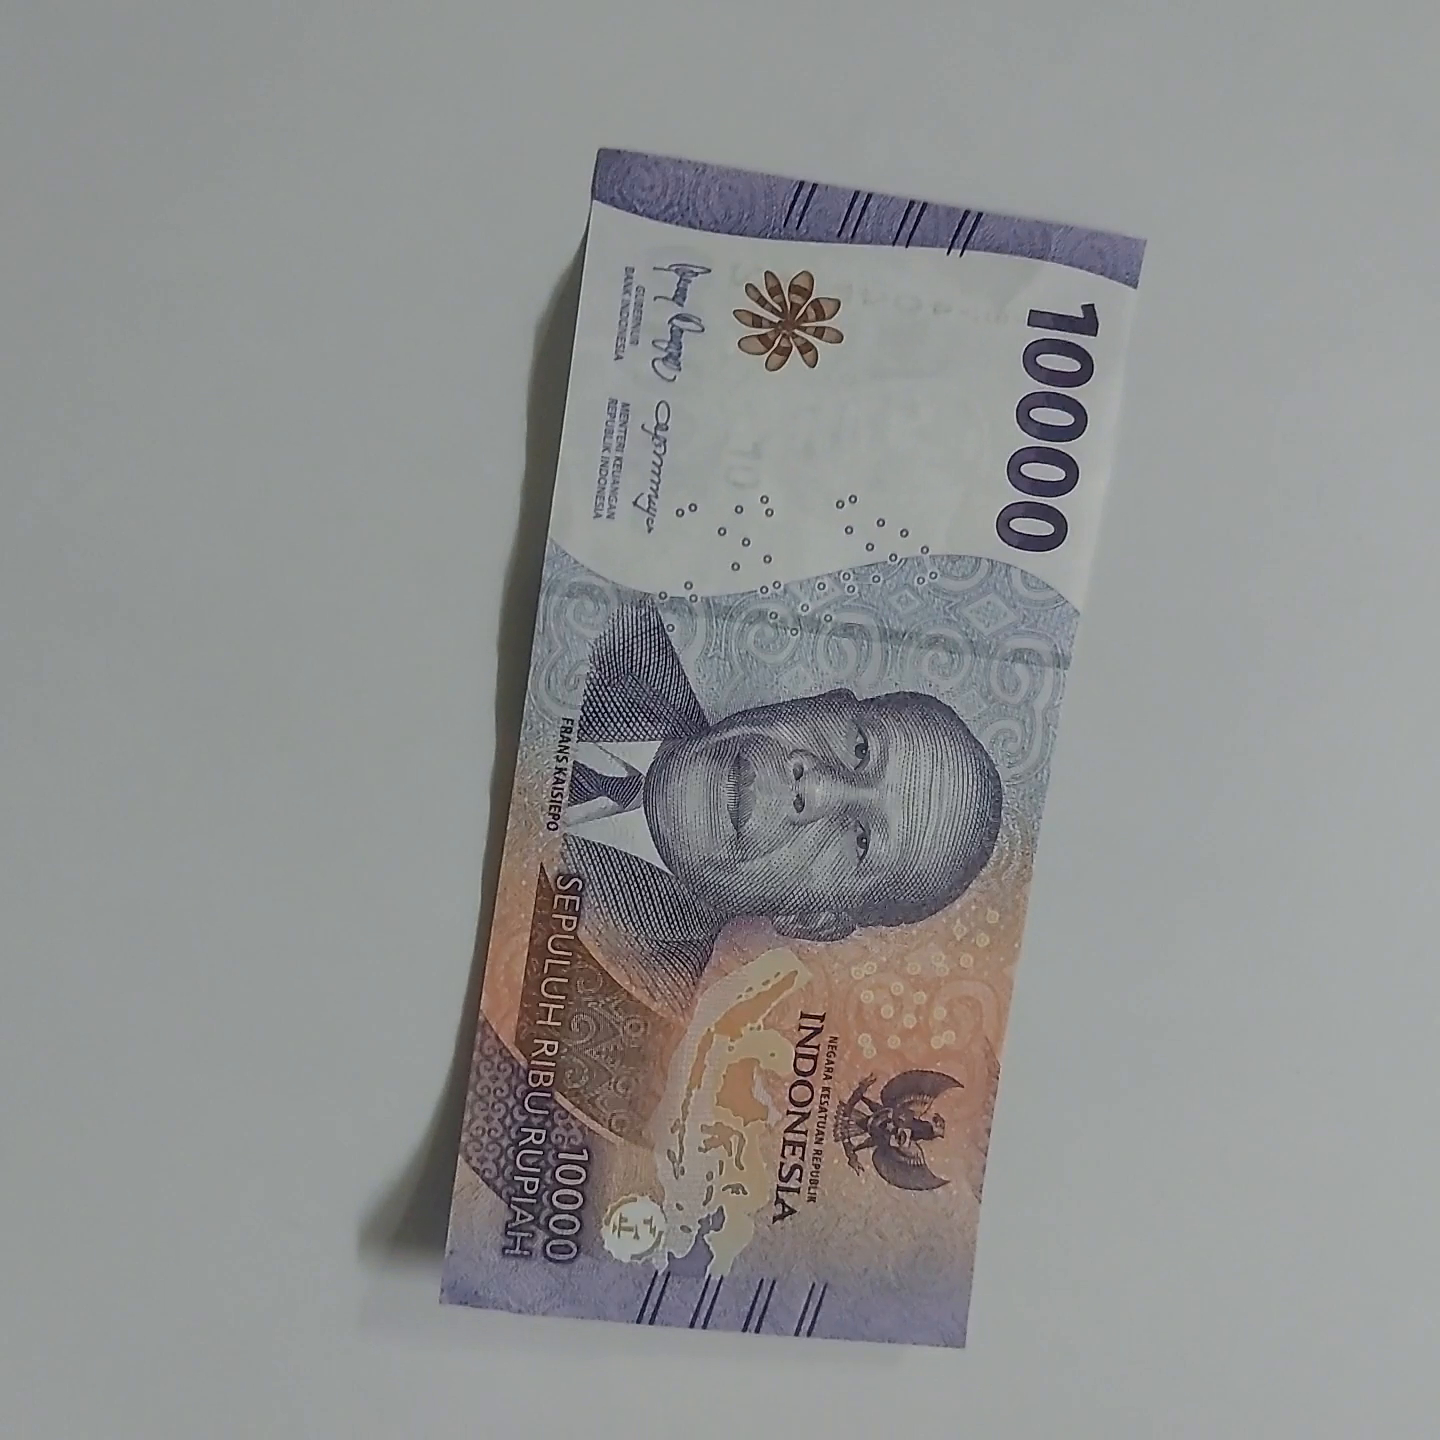10k: (597, 111, 1138, 1320)
